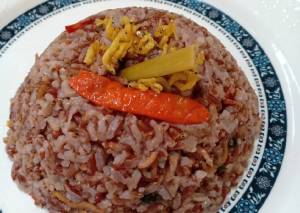Nasi Merah: (13, 24, 263, 213)
